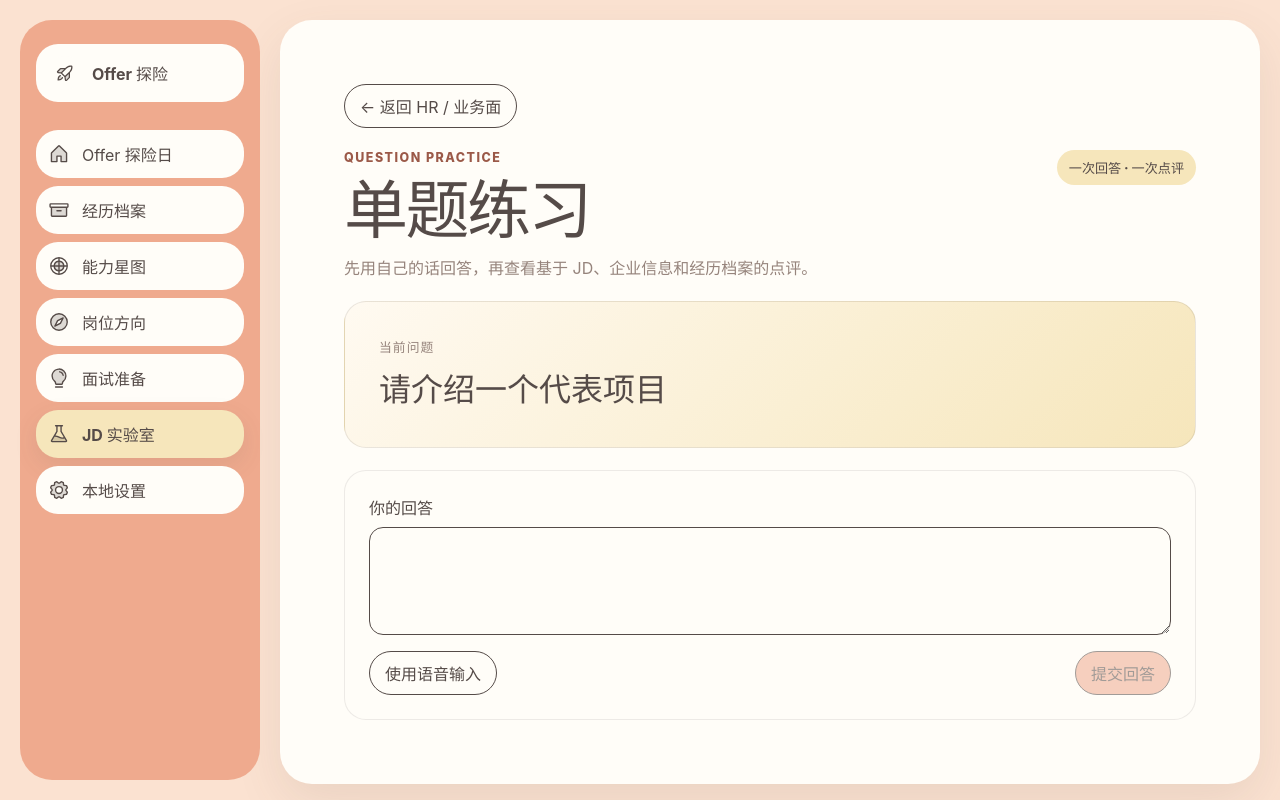
Test: mock interview › shows a focused practice input for a predicted question
expect the button "提交回答" is disabled: met, box [1075,651,1171,695]
Type "我负责过品牌升级。" into the text box labelled "你的回答" at [770, 581], box [369,527,1171,635]
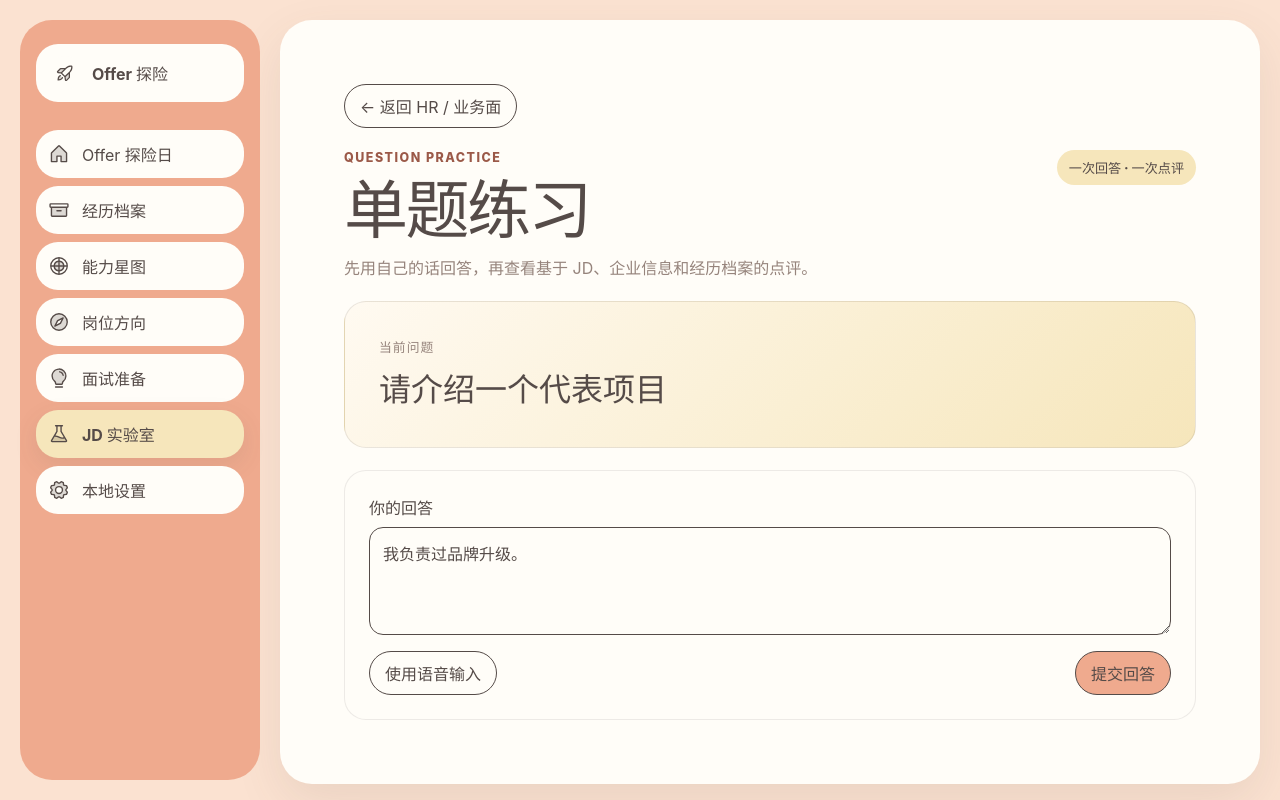
expect the button "提交回答" is enabled: met, box [1075,651,1171,695]
